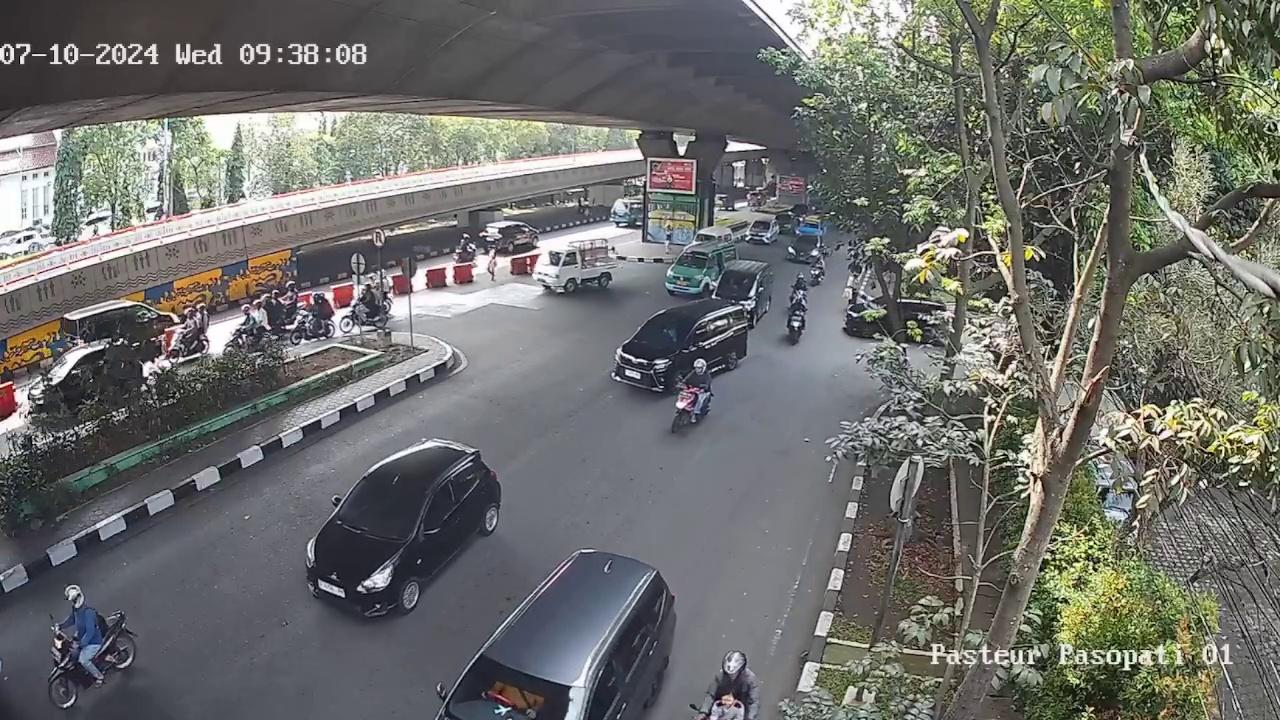pakai: (496, 676, 541, 711), (659, 320, 682, 342)
windshield: (449, 662, 588, 720), (332, 476, 425, 532), (631, 313, 695, 352), (721, 269, 765, 298), (675, 252, 709, 268)
